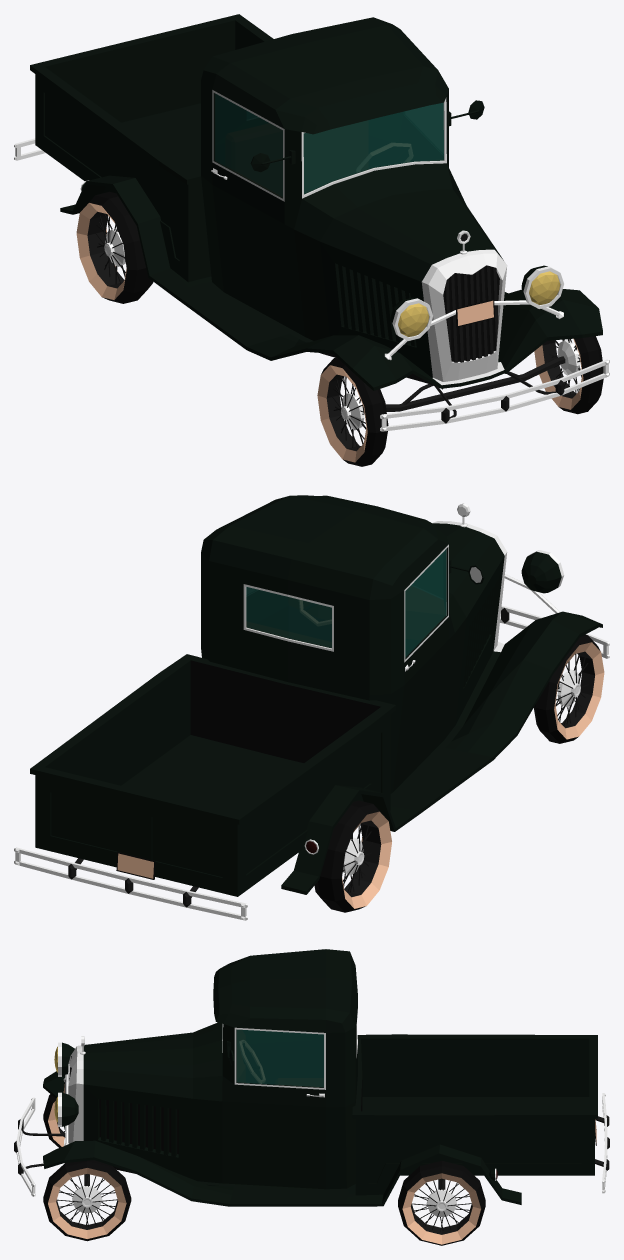
Rendered from VintagePickup_04.FBX.
The picture shows the model from 3 angles, top to bottom: view 1: azimuth 30°, elevation 25°; view 2: azimuth 150°, elevation 25°; view 3: azimuth 270°, elevation 25°; orthographic projection. The views are drawn at different scales.
Visible parts, largest first — view 1: Pickup_04, interior, wheel_b_r, wheel_f_r, wheel_f_l, grill_r, grill_f, bumper_f, headLights, suspension_f, lights, licensePlate_f; view 2: Pickup_04, interior, wheel_b_r, wheel_f_r, bumper_b, lights, grill_r, licensePlate_b, bumper_f; view 3: Pickup_04, wheel_b_l, interior, wheel_f_l, grill_l, lights, bumper_f, wheel_f_r, bumper_b.
Boxes of the visible parts, box(x1,y1,x2,y2) form: Pickup_04: box(30, 14, 602, 390); interior: box(215, 93, 443, 197); wheel_b_r: box(76, 191, 153, 303); wheel_f_r: box(317, 357, 388, 466); wheel_f_l: box(534, 336, 603, 414); grill_r: box(338, 264, 416, 346); grill_f: box(444, 265, 498, 362); bumper_f: box(380, 359, 609, 431); headLights: box(398, 271, 560, 336); suspension_f: box(362, 356, 565, 411); lights: box(80, 180, 563, 340); licensePlate_f: box(455, 299, 494, 327); Pickup_04: box(30, 495, 602, 896); interior: box(246, 550, 445, 657); wheel_b_r: box(314, 800, 391, 912); wheel_f_r: box(534, 634, 604, 743); bumper_b: box(14, 847, 247, 920); lights: box(304, 550, 563, 854); grill_r: box(463, 586, 494, 686); licensePlate_b: box(116, 852, 155, 879); bumper_f: box(500, 606, 609, 658); Pickup_04: box(43, 949, 597, 1206); wheel_b_l: box(398, 1160, 485, 1245); interior: box(237, 1030, 323, 1087); wheel_f_l: box(43, 1160, 131, 1241); grill_l: box(101, 1099, 177, 1156); lights: box(58, 1042, 496, 1180); bumper_f: box(14, 1097, 65, 1196); wheel_f_r: box(43, 1094, 65, 1147); bumper_b: box(595, 1093, 609, 1193).
Bounding box in the file's own units: 19.49 × 19.78 × 48.46.
